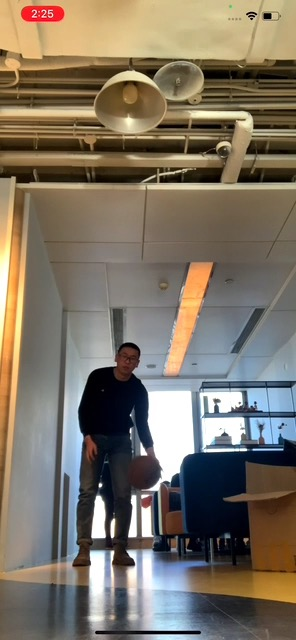ball: (124, 454, 161, 488)
